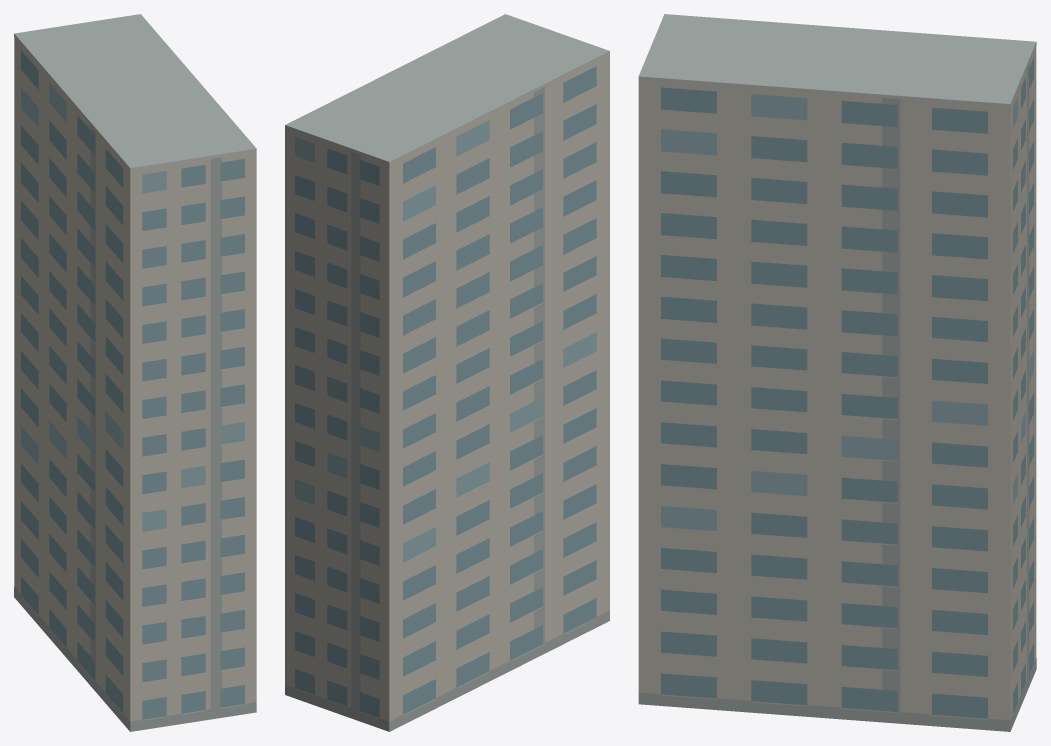
File: residential-92574008-6849-40f1-b900-2caf2b9bc422.glb
The picture shows the model from 3 angles, left to right: view 1: azimuth 30°, elevation 25°; view 2: azimuth 150°, elevation 25°; view 3: azimuth 270°, elevation 25°; orthographic projection. The views are drawn at different scales.
Parts seen in each view (by area): view 1: residential-92574008-6849-40f1-b900-2caf2b9bc422.tmp; view 2: residential-92574008-6849-40f1-b900-2caf2b9bc422.tmp; view 3: residential-92574008-6849-40f1-b900-2caf2b9bc422.tmp.
Part boxes in pixels (x1,y1,x2,y2): residential-92574008-6849-40f1-b900-2caf2b9bc422.tmp: (14,14,256,731); residential-92574008-6849-40f1-b900-2caf2b9bc422.tmp: (285,14,609,731); residential-92574008-6849-40f1-b900-2caf2b9bc422.tmp: (638,14,1036,731).
Bounding box in the file's own units: 13.86 × 45 × 25.86.
